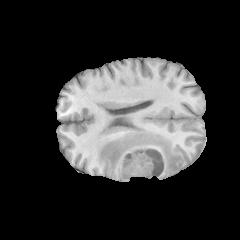glioma: (98, 128, 184, 179)
